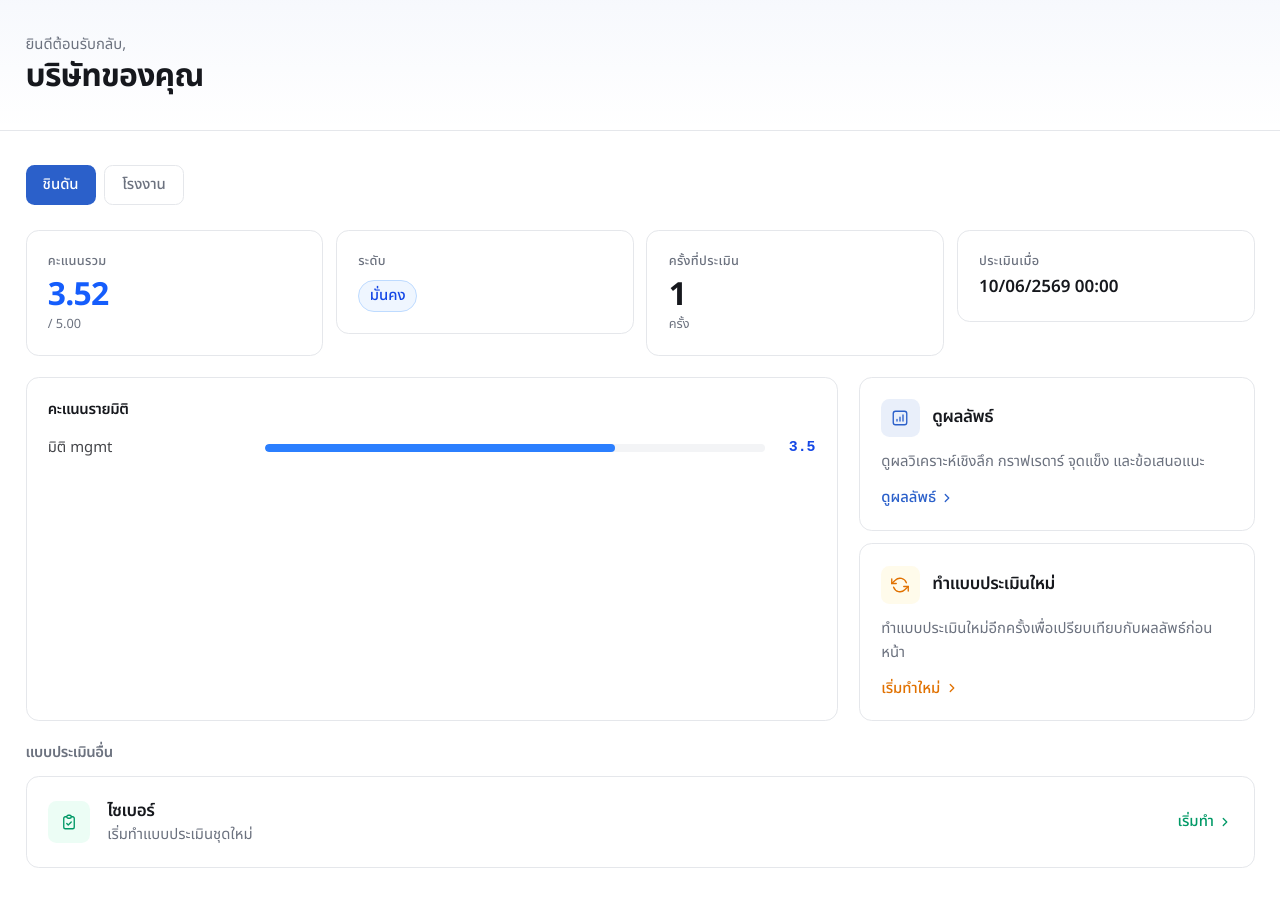
DashboardPage — quiz selector tabs › UT-004/UT-005: defaults to the first completed quiz and swaps on tab click
The image size is (1280, 900).
Expected: the text "3.52" is shown, [48,271,108,319]
Expected: the text "4.10" is not shown
Click the button "โรงงาน": (144, 185) [104,165,184,205]
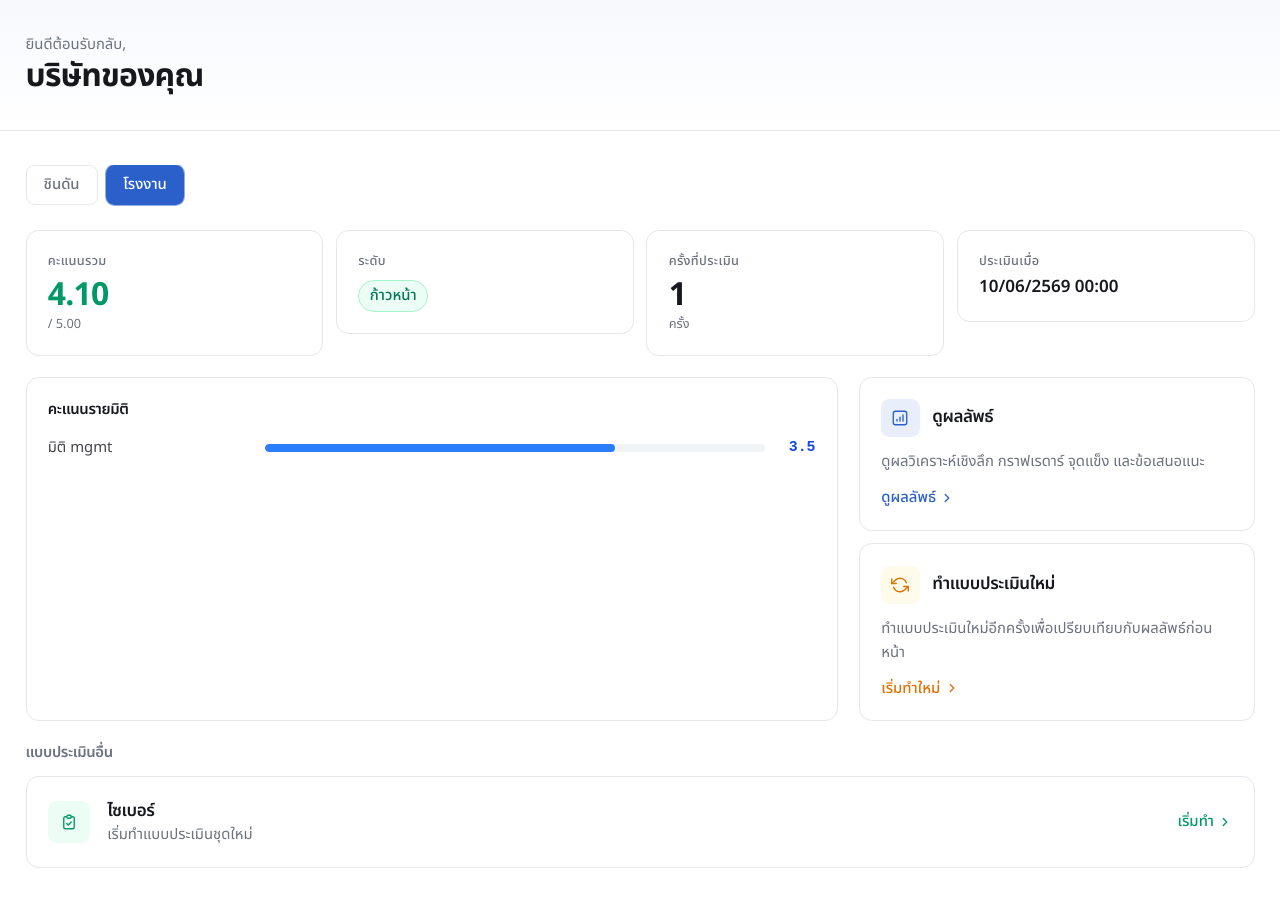
Expected: the text "4.10" is shown, [48,271,108,319]
Expected: the text "3.52" is gone
